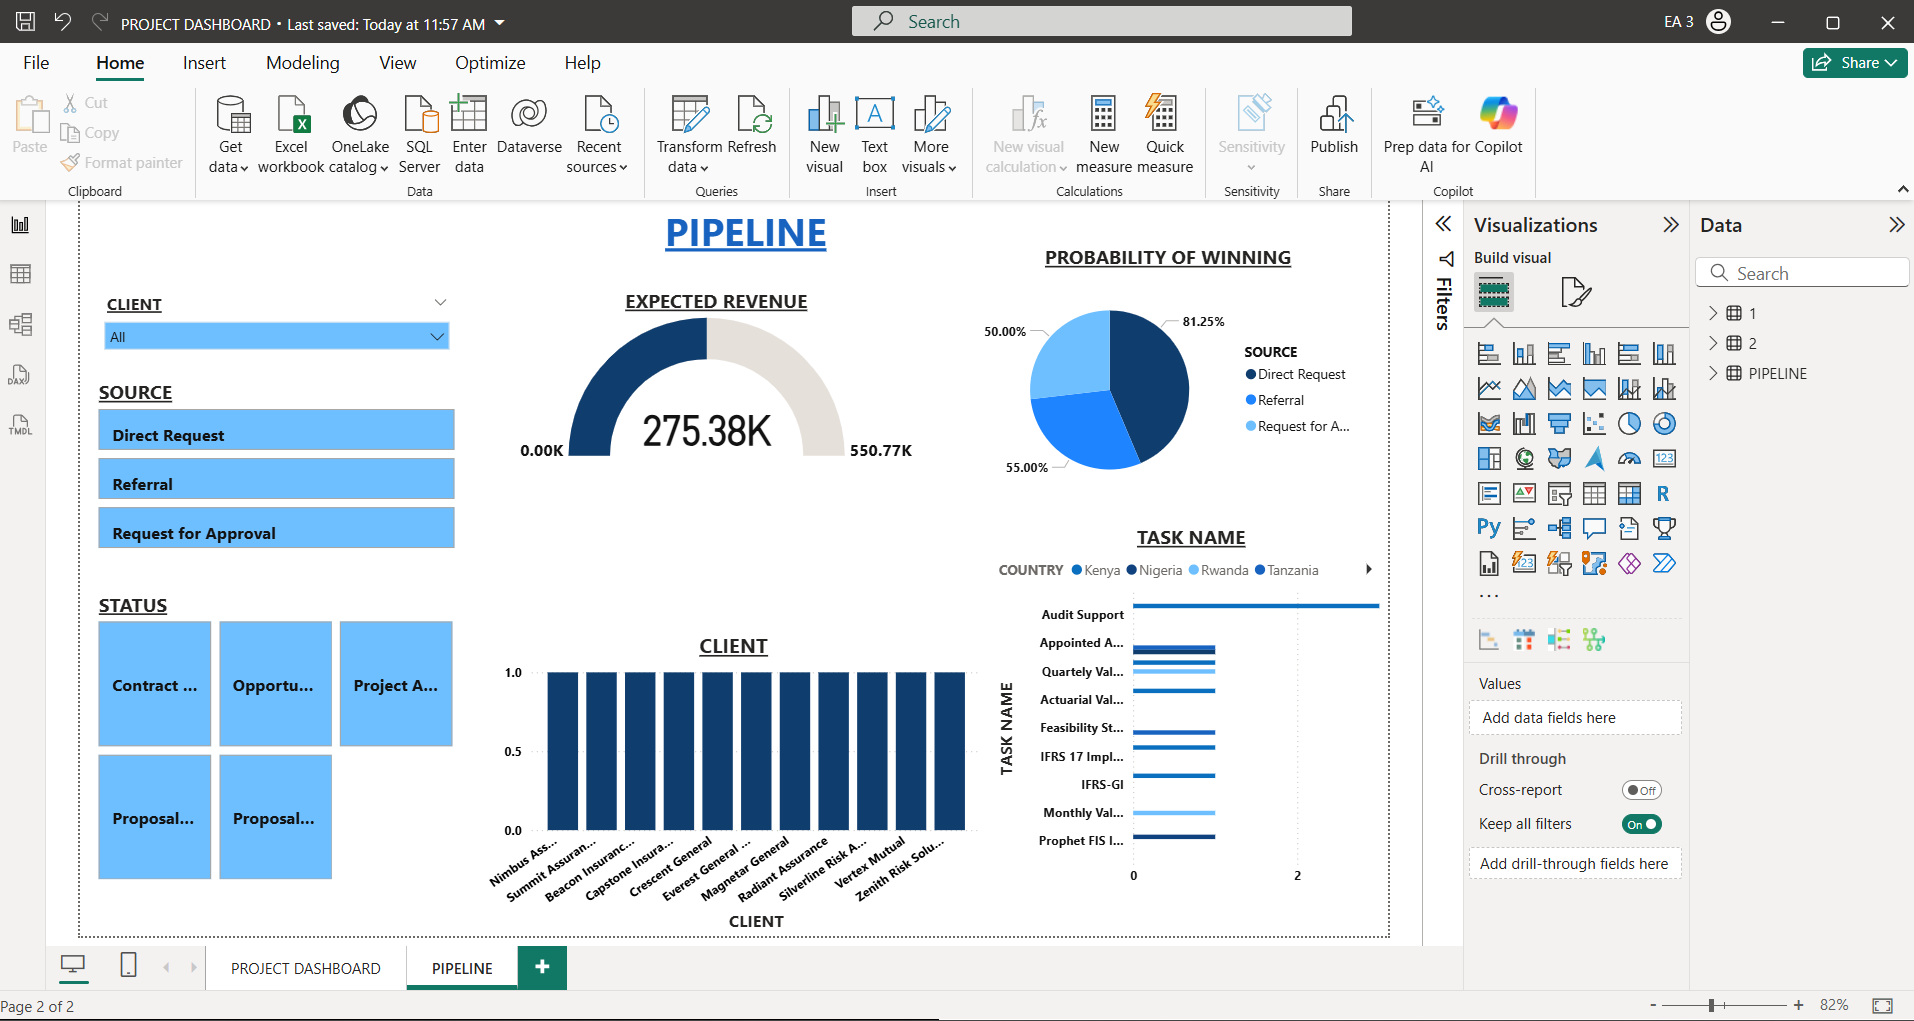

The dashboard page shown, as its layout file describes it:
{"tool":"powerbi","page":{"name":"PIPELINE","canvas":[1280,720],"ordinal":1},"visuals":[{"type":"slicer","fields":{"Values":["PIPELINE.CLIENT"]},"box":[13.5,85.6,358.3,79.5],"z":0},{"type":"clusteredColumnChart","title":"CLIENT","fields":{"Category":["PIPELINE.CLIENT"],"Y":["CountNonNull(PIPELINE.TASK NAME)"]},"box":[392.5,421.9,494,298.4],"z":1000},{"type":"clusteredBarChart","title":" TASK NAME","fields":{"Y":["CountNonNull(PIPELINE.CLIENT)"],"Category":["PIPELINE.TASK NAME"],"Series":["PIPELINE.COUNTRY"]},"box":[893.9,316.7,386.4,362],"z":2000},{"type":"gauge","title":" EXPECTED REVENUE","fields":{"Y":["Avg(PIPELINE.EXPECTED REVENUE)"]},"box":[384,85.6,476.9,174.9],"z":3000},{"type":"pieChart","title":"PROBABILITY OF WINNING","fields":{"Y":["Avg(PIPELINE.PROBABILITY OF WINNING)"],"Category":["PIPELINE.SOURCE"]},"box":[870.7,42.8,387.6,261.7],"z":4000},{"type":"advancedSlicerVisual","fields":{"Values":["PIPELINE.SOURCE"]},"box":[13.5,174.9,358.3,171.2],"z":5000},{"type":"advancedSlicerVisual","fields":{"Values":["PIPELINE.STATUS"]},"box":[13.5,382.7,358.3,288.6],"z":6000},{"type":"textbox","box":[567.4,0,185.9,85.6],"z":7001}]}

Visuals, with their boxes on the page's 1280x720 design canvas (x1, y1, x2, y2). These are canvas units, not pixel positions in the 1914x1021 screenshot, which may show the page scaled, cropped or inside an application window:
slicer - PIPELINE.CLIENT: BBox(14, 86, 372, 165)
"CLIENT" clusteredColumnChart: BBox(392, 422, 886, 720)
" TASK NAME" clusteredBarChart: BBox(894, 317, 1280, 679)
" EXPECTED REVENUE" gauge: BBox(384, 86, 861, 260)
"PROBABILITY OF WINNING" pieChart: BBox(871, 43, 1258, 304)
advancedSlicerVisual - PIPELINE.SOURCE: BBox(14, 175, 372, 346)
advancedSlicerVisual - PIPELINE.STATUS: BBox(14, 383, 372, 671)
textbox: BBox(567, 0, 753, 86)
